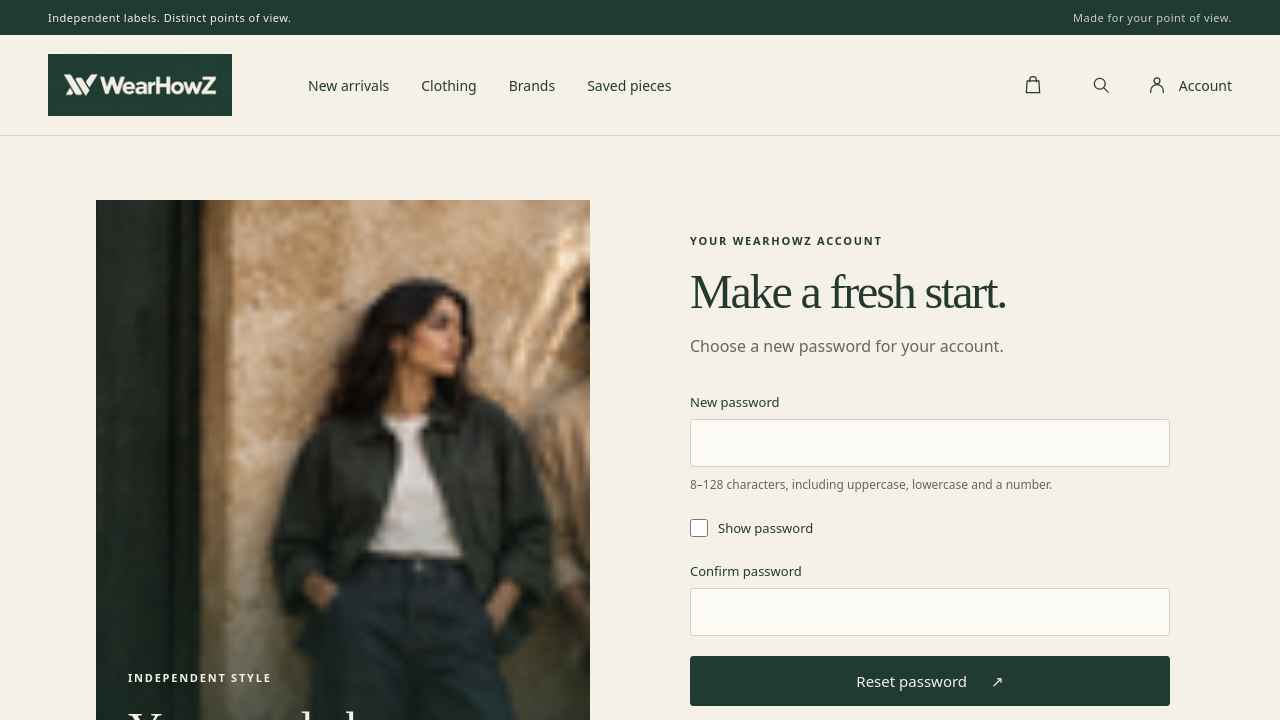
Test: requires matching new passwords before sending the reset
Check: the button "Reset password ↗" is enabled, box [690,656,1170,706]
Type "Example123" into the password field labelled "New password" at (930, 443), box [690,419,1170,467]
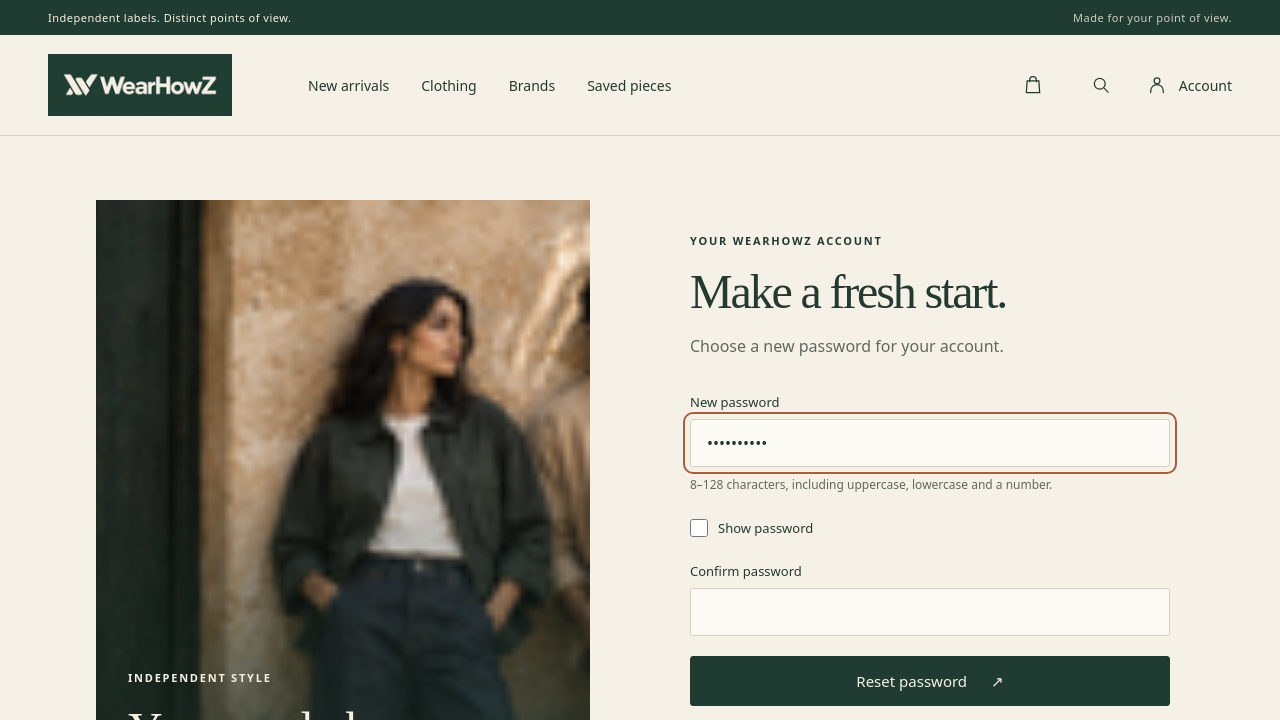
Type "Different123" into the password field labelled "Confirm password" at (930, 612), box [690,588,1170,636]
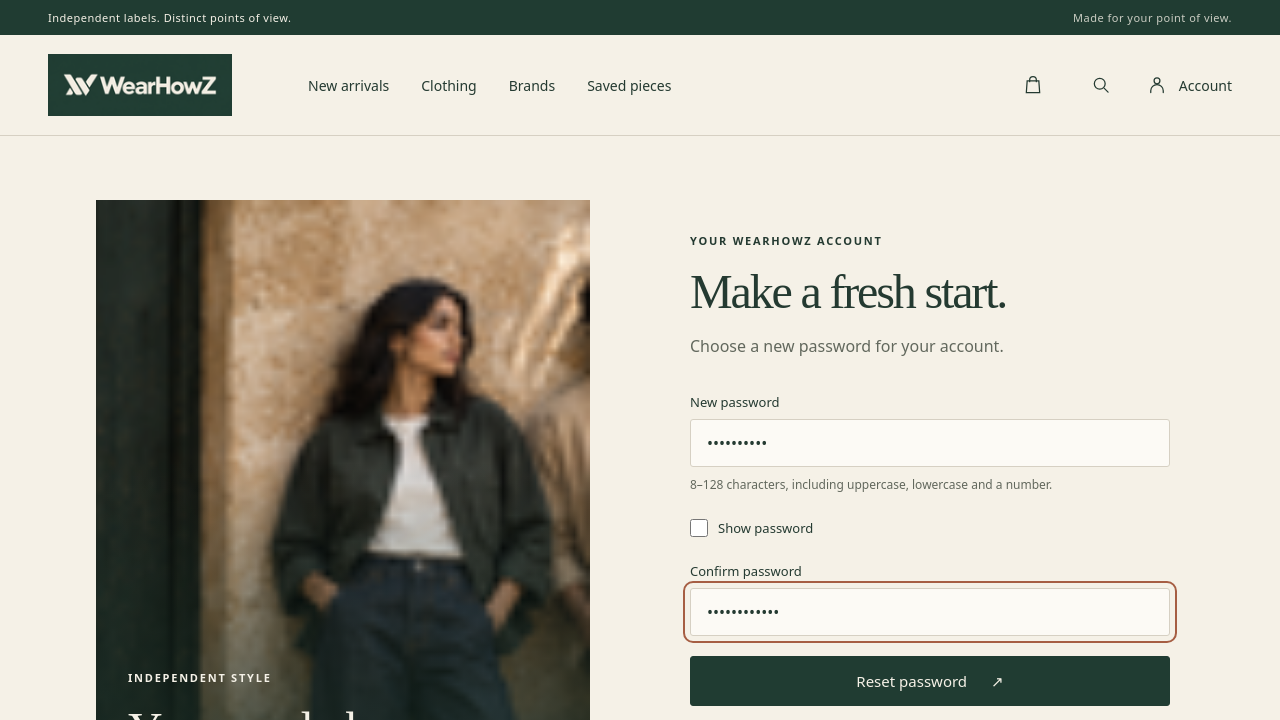
Click the button "Reset password ↗" at (930, 681), box [690,656,1170,706]
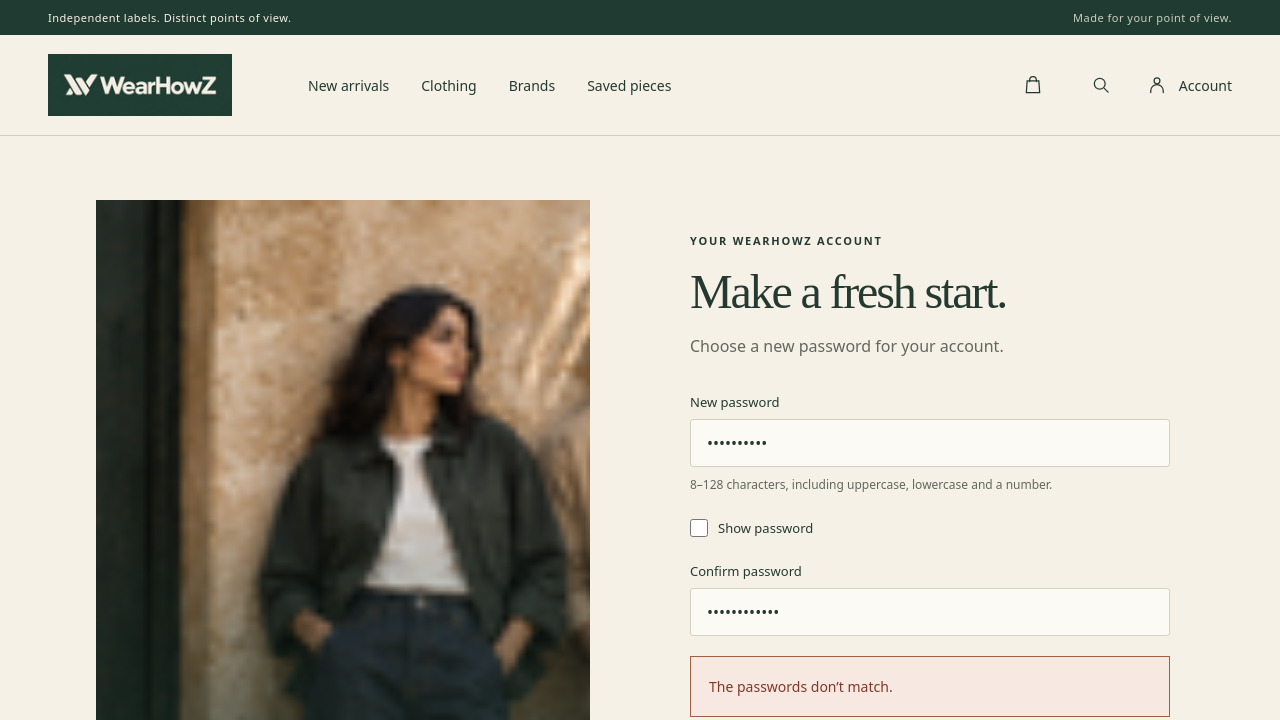
Check: the message reads "The passwords don’t match.", box [709,677,893,696]
